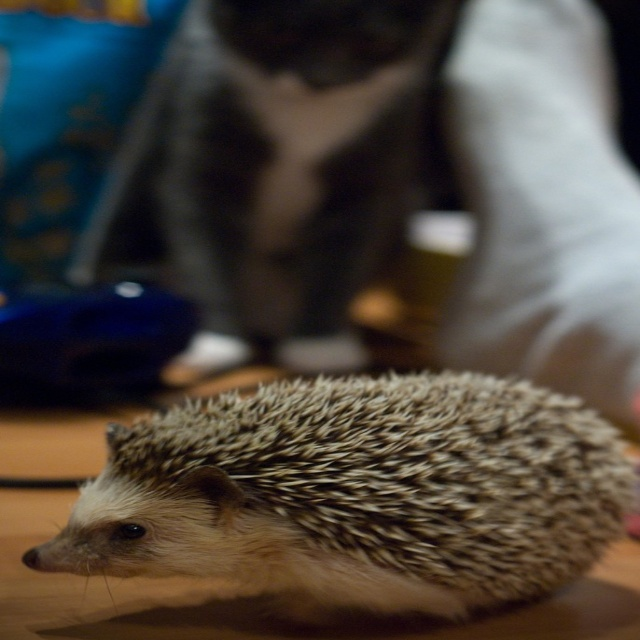Hedgehog: (16, 369, 639, 631)
